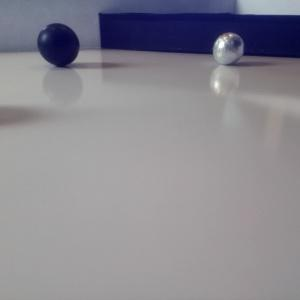zone: (98, 12, 300, 58)
